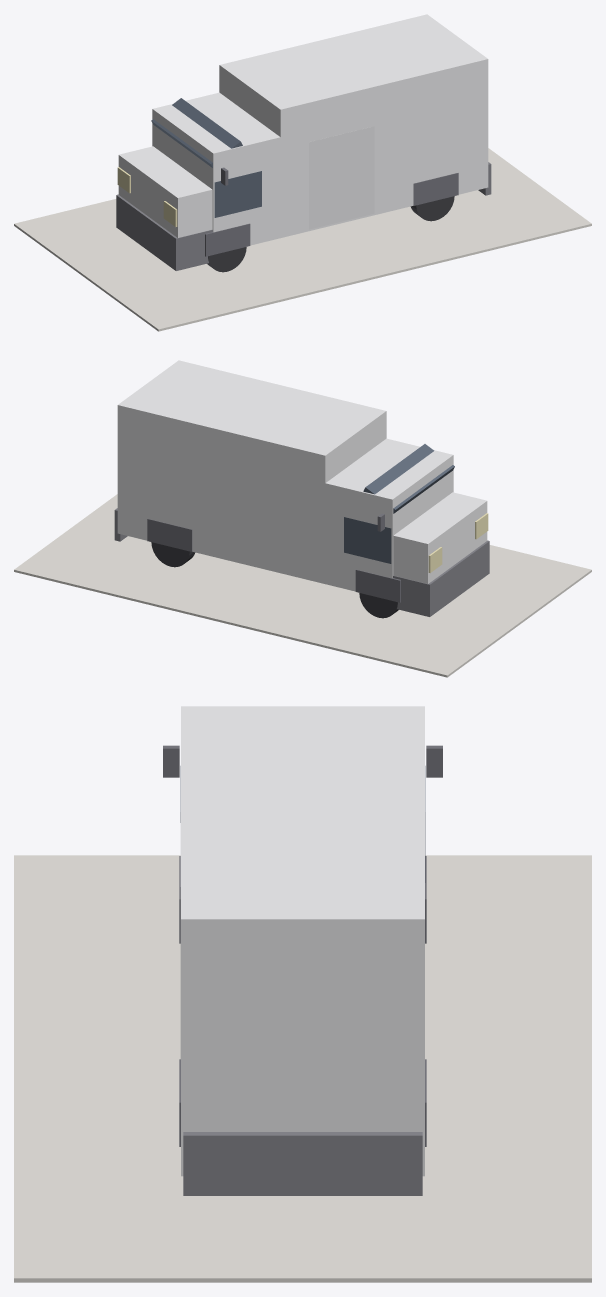
The model's file is van_full.glb.
The picture shows the model from 3 angles, top to bottom: view 1: azimuth 30°, elevation 25°; view 2: azimuth 150°, elevation 25°; view 3: azimuth 270°, elevation 25°; orthographic projection. The views are drawn at different scales.
Parts seen in each view (by area): view 1: Body_Box, Ground, Cab, Slide_Door, Bonnet, Front_Bumper, Cab_Win_L, Windscreen, ArchTrim_-1225_L, ArchTrim_2810_L, Wheel_RL, Wheel_FL; view 2: Body_Box, Ground, Cab, Bonnet, Front_Bumper, Cab_Win_R, Windscreen, ArchTrim_-1225_R, ArchTrim_2810_R, Wheel_RR, Wheel_FR; view 3: Ground, Body_Box, Rear_Bumper, Cab.
Boxes of the visible parts, left/top/right/bottom form: Body_Box: left=219, top=14, right=488, bottom=237; Ground: left=14, top=148, right=591, bottom=331; Cab: left=152, top=92, right=280, bottom=245; Slide_Door: left=309, top=126, right=374, bottom=229; Bonnet: left=118, top=146, right=212, bottom=237; Front_Bumper: left=116, top=194, right=212, bottom=270; Cab_Win_L: left=214, top=171, right=261, bottom=217; Windscreen: left=151, top=98, right=242, bottom=167; ArchTrim_-1225_L: left=205, top=223, right=250, bottom=256; ArchTrim_2810_L: left=413, top=173, right=458, bottom=205; Wheel_RL: left=410, top=196, right=454, bottom=221; Wheel_FL: left=207, top=247, right=246, bottom=272; Body_Box: left=117, top=360, right=386, bottom=583; Ground: left=14, top=494, right=591, bottom=677; Cab: left=325, top=438, right=453, bottom=591; Bonnet: left=393, top=492, right=487, bottom=583; Front_Bumper: left=393, top=540, right=489, bottom=616; Cab_Win_R: left=344, top=517, right=391, bottom=563; Windscreen: left=363, top=444, right=454, bottom=513; ArchTrim_-1225_R: left=355, top=569, right=400, bottom=602; ArchTrim_2810_R: left=147, top=519, right=192, bottom=551; Wheel_RR: left=151, top=542, right=195, bottom=567; Wheel_FR: left=359, top=593, right=398, bottom=618; Ground: left=14, top=855, right=591, bottom=1282; Body_Box: left=181, top=716, right=424, bottom=1176; Rear_Bumper: left=183, top=1132, right=422, bottom=1195; Cab: left=181, top=706, right=424, bottom=716.
Size of the model in its own units: 8.4 by 2.8 by 4.85.
